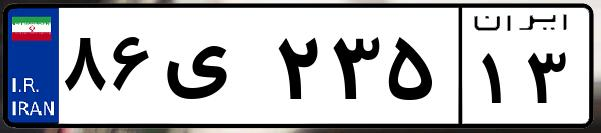1: (475, 38, 525, 113)
2: (270, 28, 330, 110)
3: (330, 28, 385, 110), (525, 38, 570, 115)
5: (385, 28, 445, 110)
6: (110, 28, 158, 98)
8: (57, 26, 110, 100)
ی: (158, 20, 270, 120)
